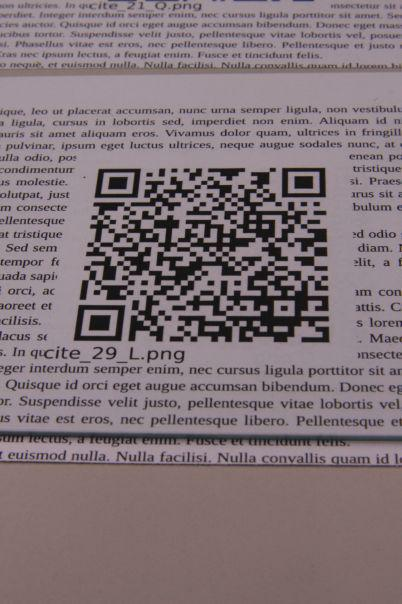Finder pattern: (71, 302, 129, 347), (88, 165, 147, 202), (275, 165, 332, 202)
